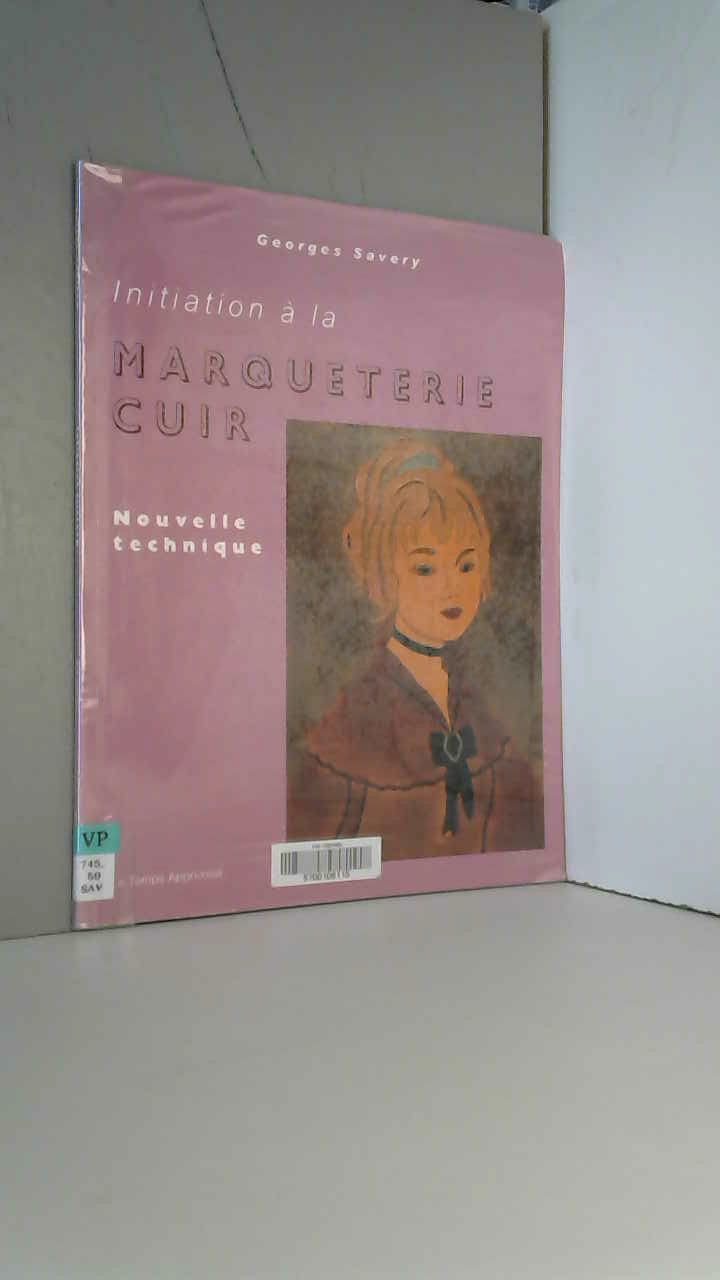book: (40, 125, 615, 960)
